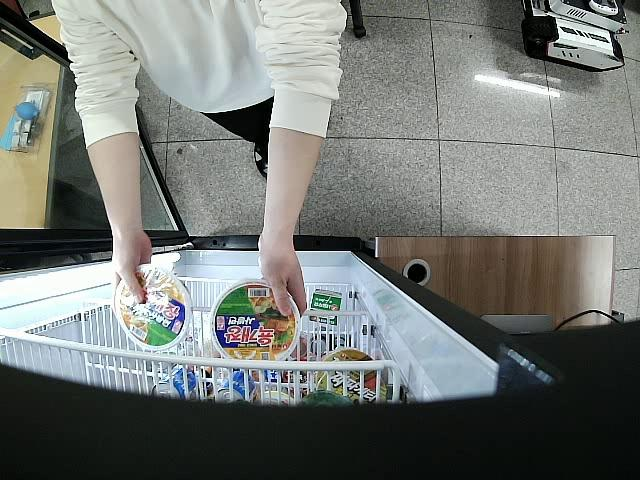00_hand: (257, 238, 307, 319), (110, 229, 149, 303)
09_yukGaeJang: (211, 281, 303, 359), (113, 265, 193, 349)
